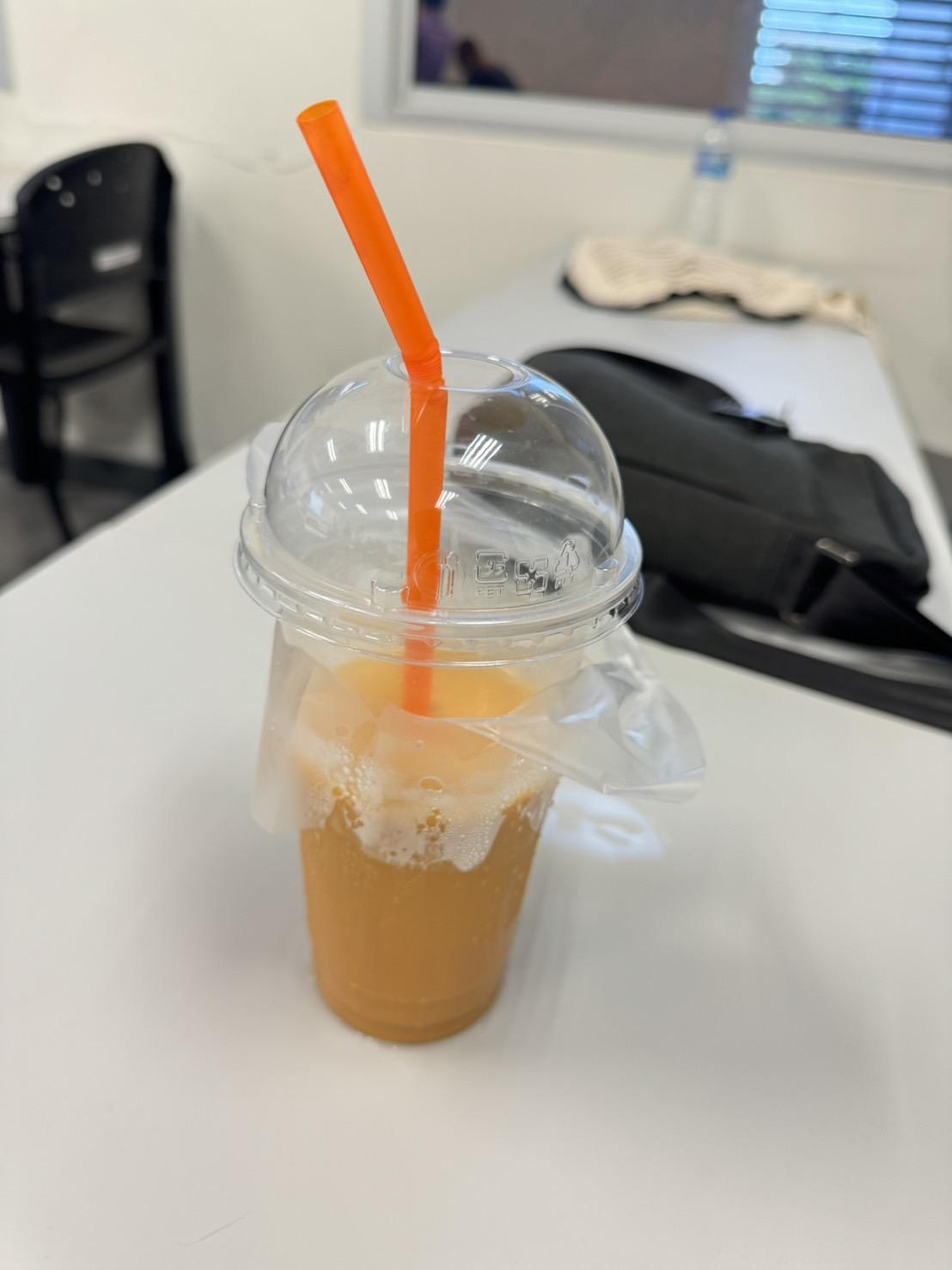cup: (236, 352, 695, 1040)
